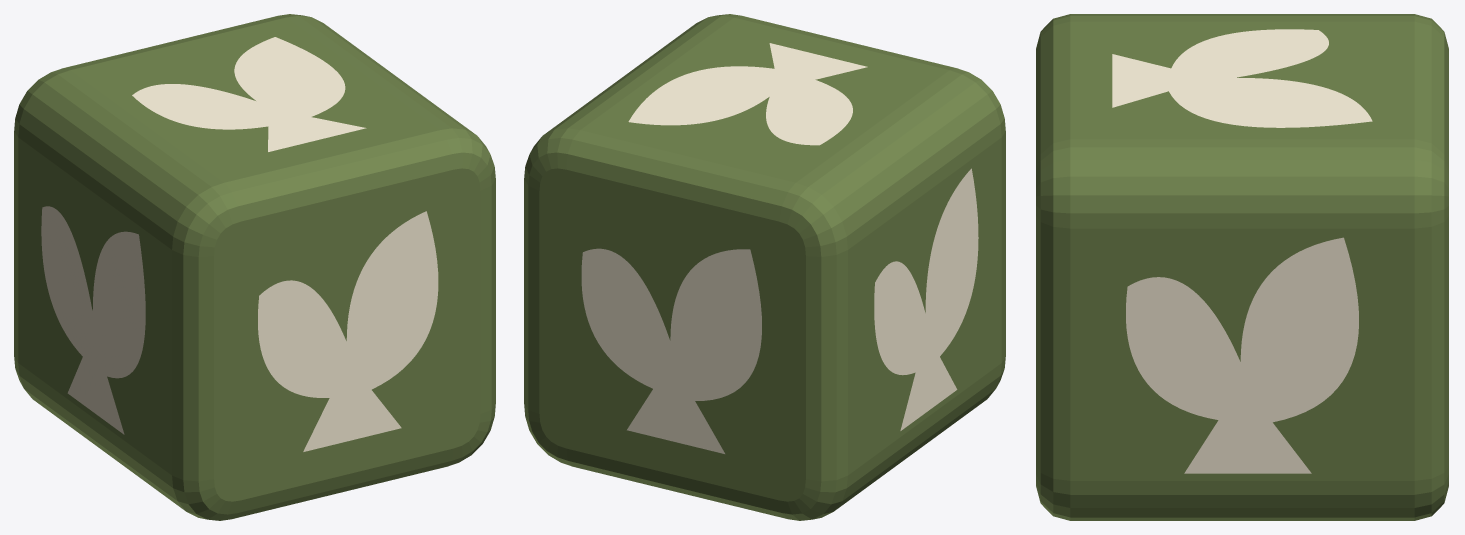
Rendered from budget-marker-6.glb.
3 views of the same model, side by side, from view 1: azimuth 30°, elevation 25°; view 2: azimuth 150°, elevation 25°; view 3: azimuth 270°, elevation 25° (orthographic). The views are drawn at different scales.
Visible parts, largest first — view 1: budget-marker-6; view 2: budget-marker-6; view 3: budget-marker-6.
Part boxes in pixels (x1=…): budget-marker-6: x1=14, y1=14, x2=495, y2=520; budget-marker-6: x1=524, y1=14, x2=1005, y2=520; budget-marker-6: x1=1036, y1=14, x2=1448, y2=520.
Bounding box in the file's own units: 0.008 × 0.008 × 0.008.
